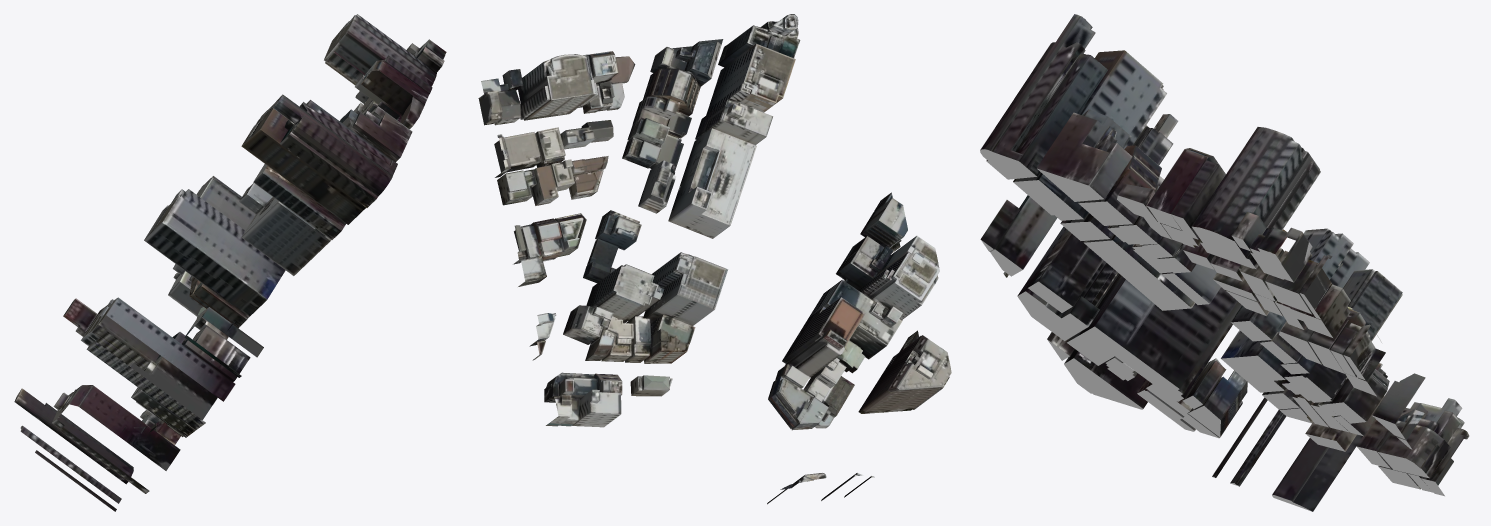
File: 39538_bldg_Building.glb
3 views of the same model, side by side, from view 1: azimuth 30°, elevation 25°; view 2: azimuth 150°, elevation 25°; view 3: azimuth 270°, elevation 25° (orthographic). The views are drawn at different scales.
Bounding box in the file's own units: 156 × 146 × 124.
Materials: 3 (2 with a texture image).
